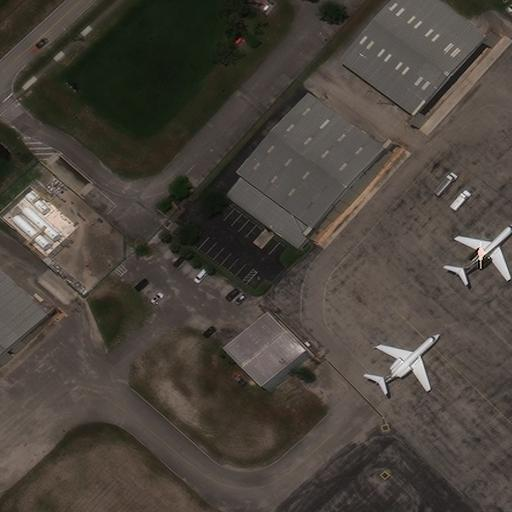Medium Civil Transport: (375, 332, 440, 390), (456, 224, 511, 279)
